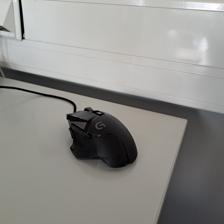mouse: (65, 105, 138, 168)
